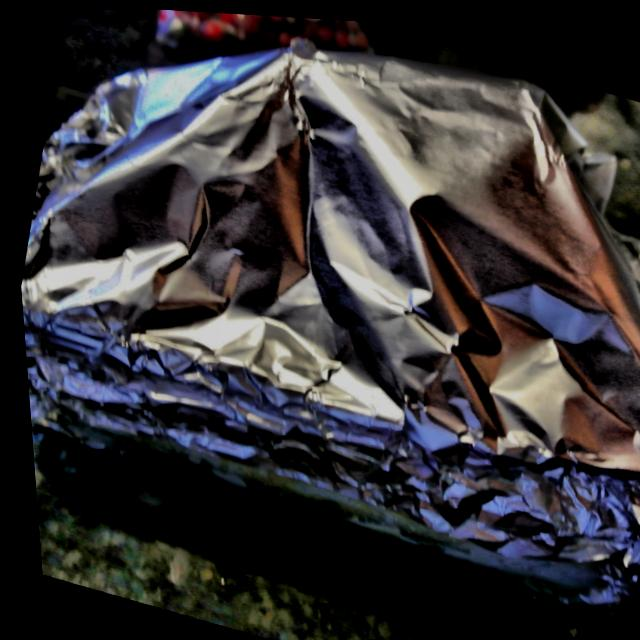Foil: (0, 0, 640, 621)
